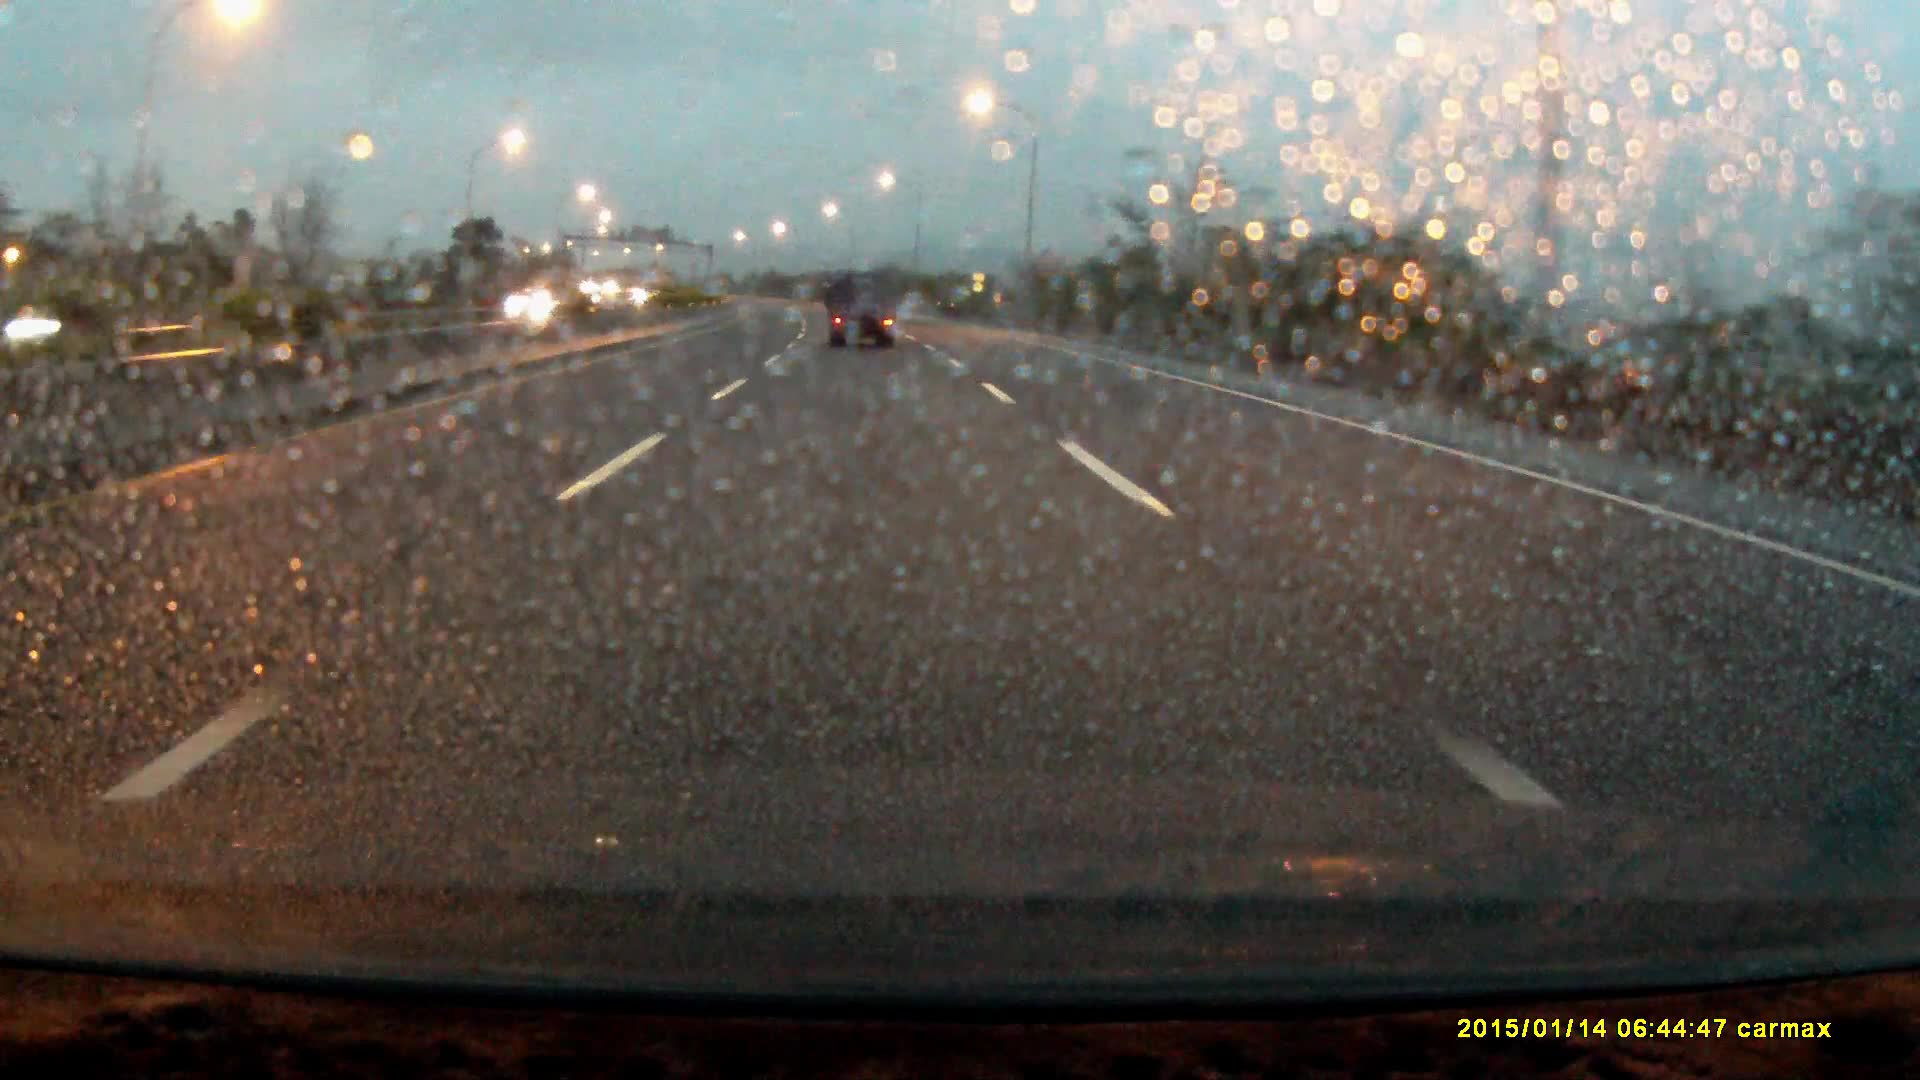vehicle: (829, 276, 895, 351), (506, 287, 575, 320)
